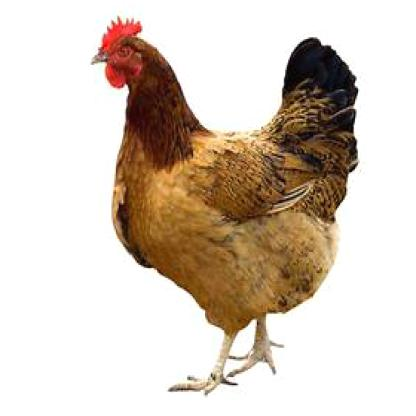chicken: (90, 15, 360, 398)
